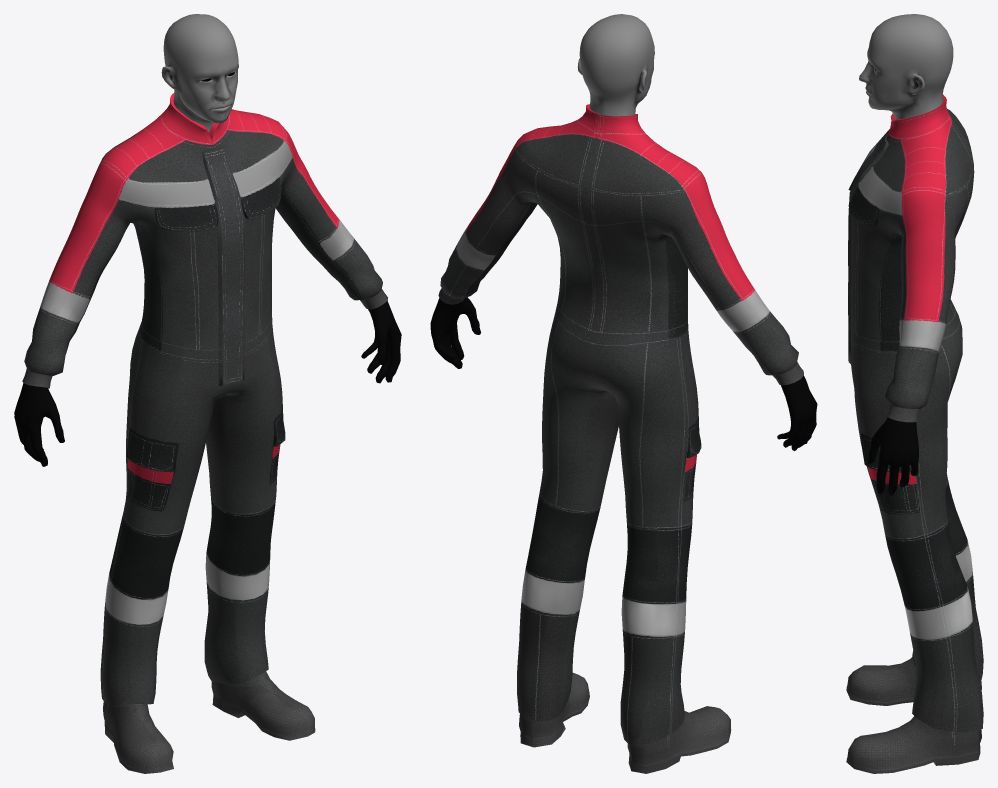
File: Character_test.fbx
The picture shows the model from 3 angles, left to right: view 1: azimuth 30°, elevation 25°; view 2: azimuth 150°, elevation 25°; view 3: azimuth 270°, elevation 25°; orthographic projection.
Visible parts, largest first — view 1: GG_cloth, GG_head_hands; view 2: GG_cloth, GG_head_hands; view 3: GG_cloth, GG_head_hands, GG_ears.
Part boxes in pixels (bbox=[...]): GG_cloth: bbox=[22, 93, 387, 773]; GG_head_hands: bbox=[14, 14, 401, 466]; GG_cloth: bbox=[438, 104, 803, 773]; GG_head_hands: bbox=[430, 14, 817, 450]; GG_cloth: bbox=[846, 94, 983, 773]; GG_head_hands: bbox=[859, 14, 953, 495]; GG_ears: bbox=[904, 69, 927, 98].
Size of the model in its own units: 1.11 by 2 by 0.3499.
